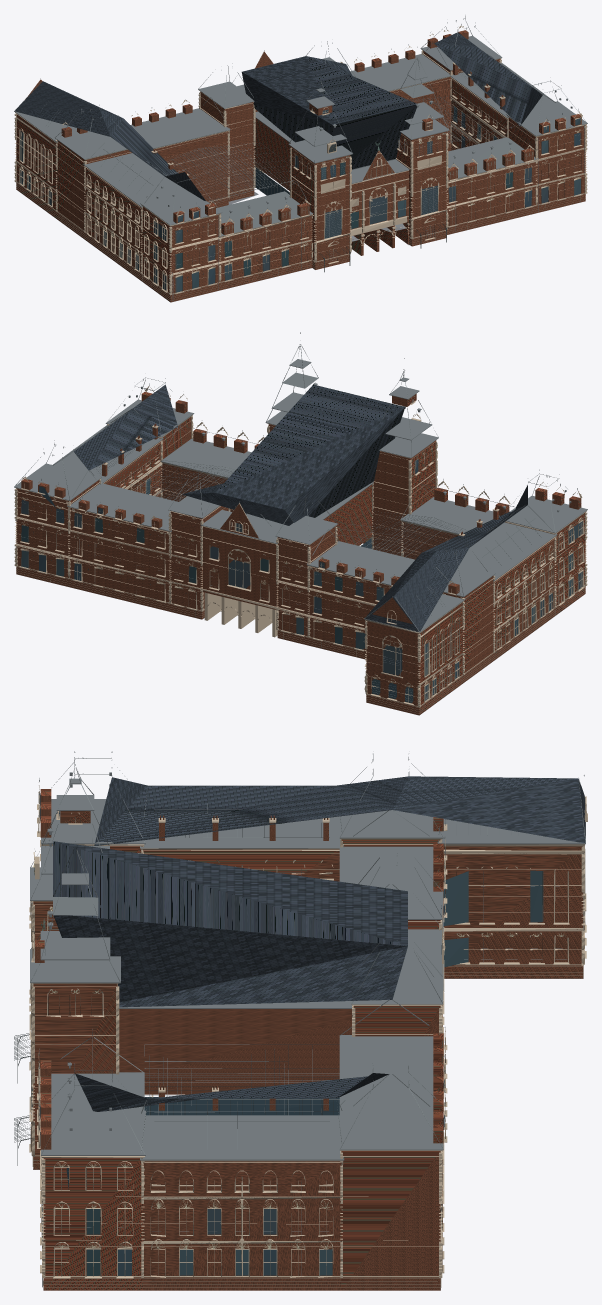
Rendered from rijksmuseum.glb.
3 views of the same model, one above another, from view 1: azimuth 30°, elevation 25°; view 2: azimuth 150°, elevation 25°; view 3: azimuth 270°, elevation 25° (orthographic). The views are drawn at different scales.
Visible parts, largest first — view 1: Object_4, Object_5, Object_14; view 2: Object_4, Object_5, Object_14; view 3: Object_4, Object_5, Object_14.
Part boxes in pixels (left/top/right/bottom): Object_4: left=16, top=30, right=585, bottom=302; Object_5: left=14, top=15, right=587, bottom=302; Object_14: left=15, top=32, right=542, bottom=200; Object_4: left=16, top=392, right=585, bottom=715; Object_5: left=14, top=332, right=587, bottom=715; Object_14: left=73, top=384, right=527, bottom=631; Object_4: left=33, top=789, right=583, bottom=1290; Object_5: left=14, top=751, right=587, bottom=1290; Object_14: left=53, top=776, right=585, bottom=1111.
Bounding box in the file's own units: 136 × 58.54 × 92.58.
Materials: 3 (3 with a texture image).
